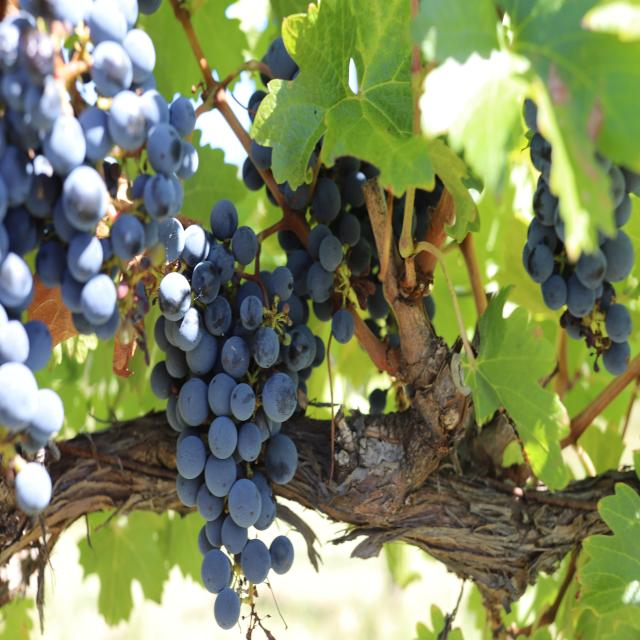grapes: (150, 201, 315, 628), (522, 99, 640, 375), (278, 285, 290, 296)
stem: (238, 246, 270, 309)
